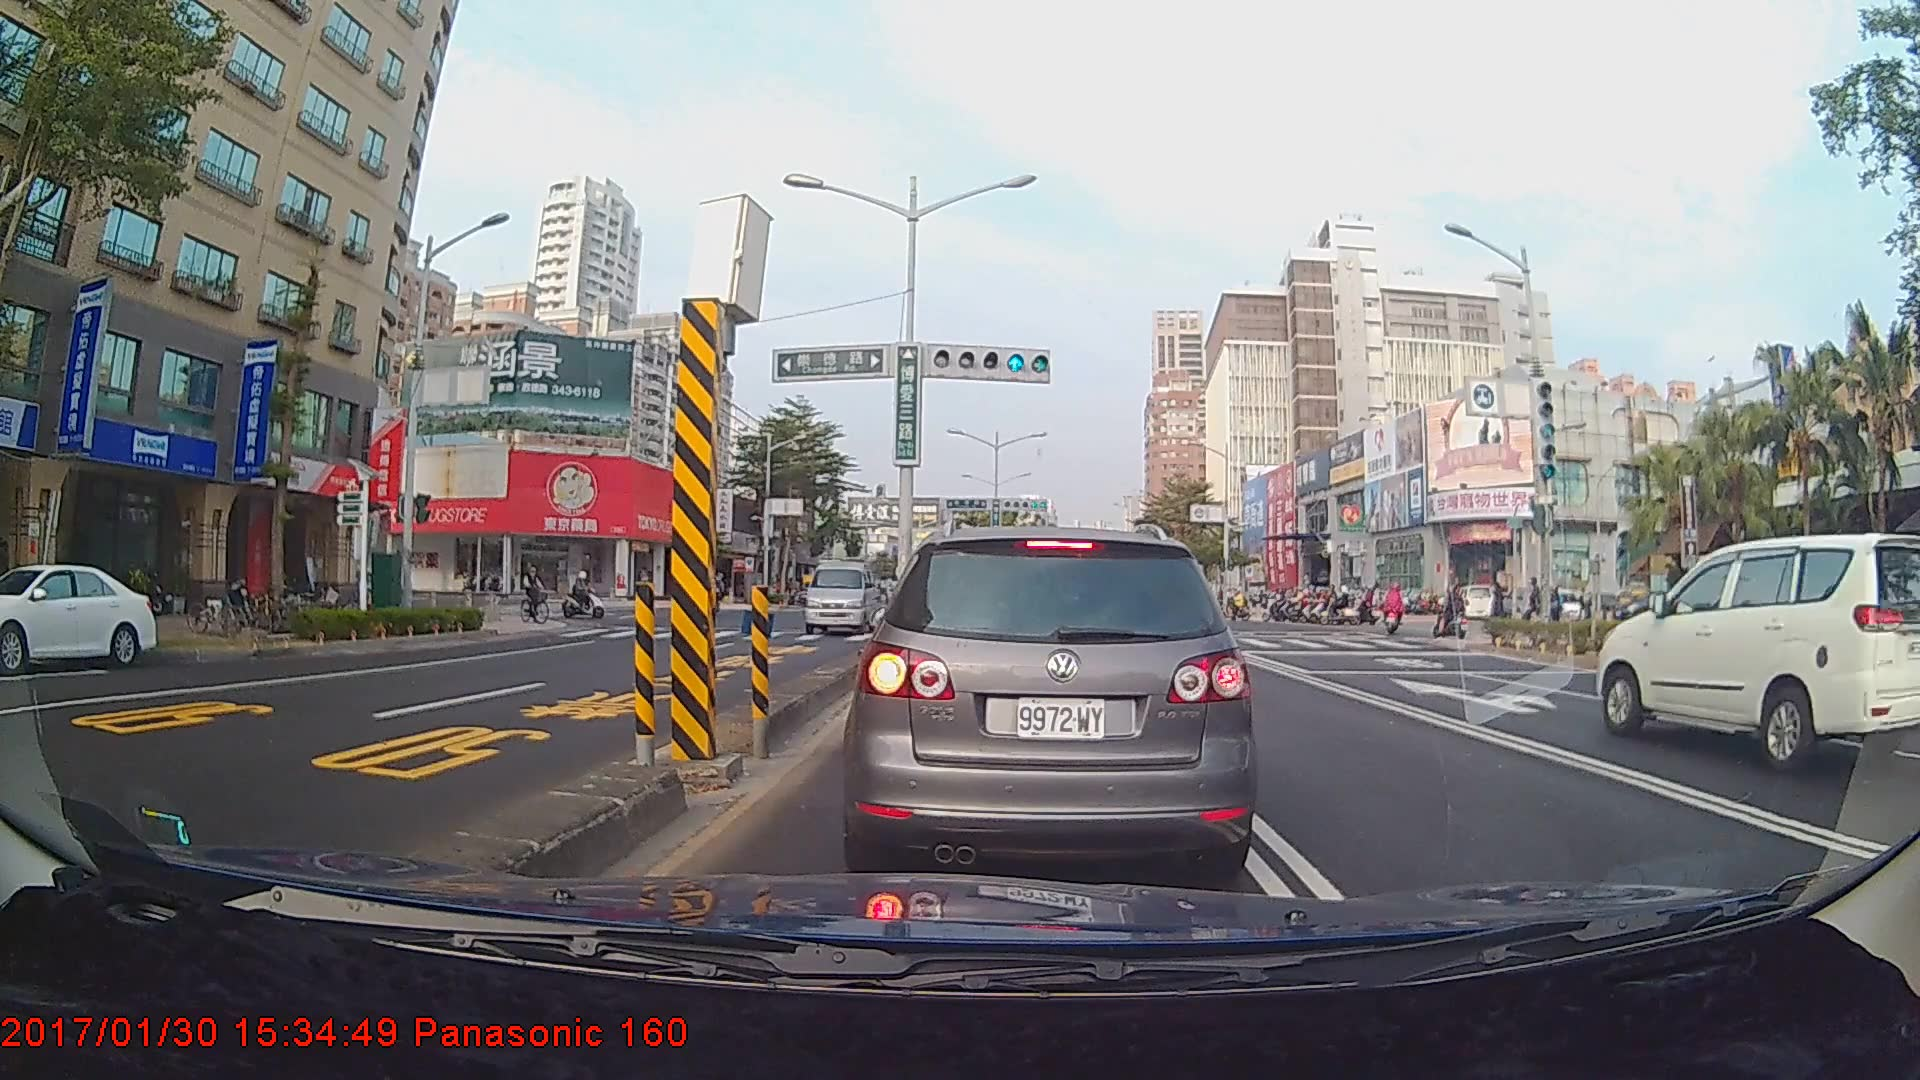pedestrian: (1490, 579, 1513, 637)
rider: (563, 568, 615, 625), (518, 559, 558, 629), (1436, 582, 1473, 646), (1384, 580, 1410, 640)
vehicle: (853, 523, 1246, 877), (1596, 531, 1920, 775), (0, 561, 159, 671), (803, 548, 881, 635)
